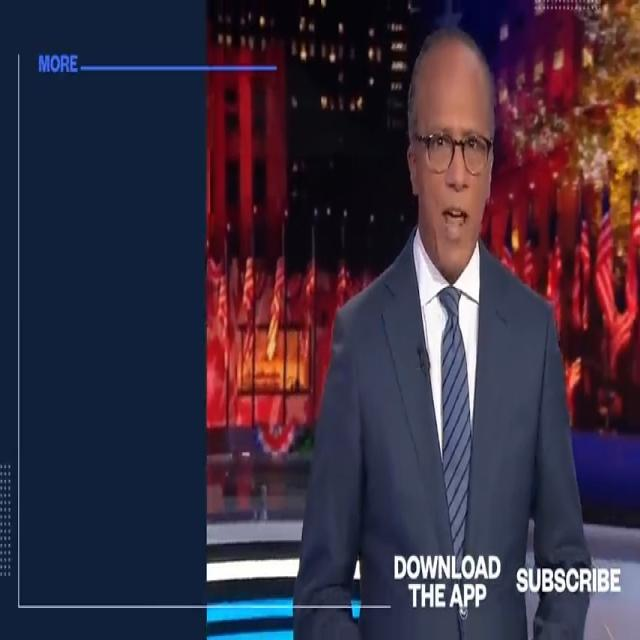non-fight: (288, 20, 612, 640)
